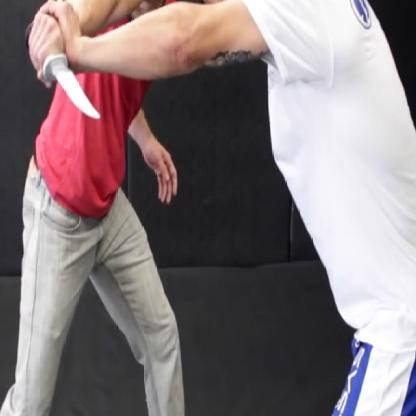knife: (19, 16, 106, 128)
